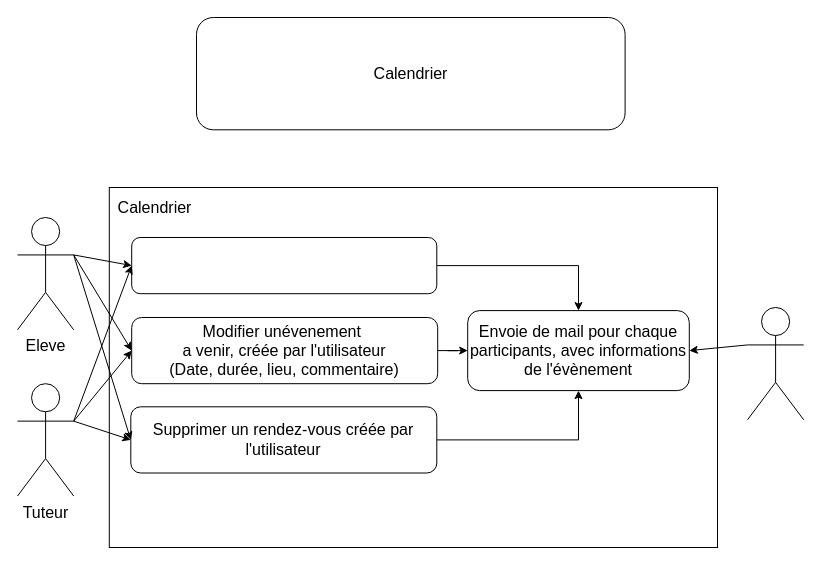
Image size: 824x565. Some labels were removed from this diagram. The box of each missing label's shape, as (x1, y1, x2, y2) in pixels:
Créer un évenement: (131, 236, 437, 294)
Système: (746, 306, 804, 420)
